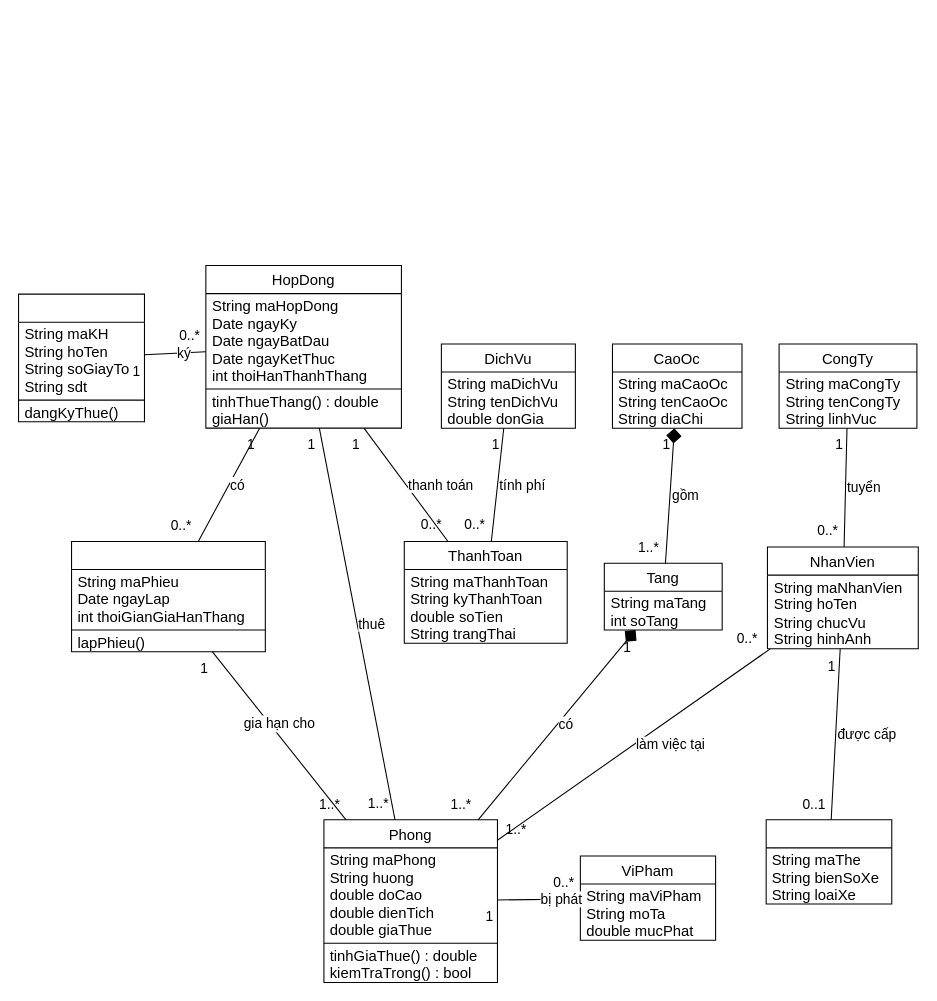
Image size: 937x1001. Some labels were removed from this diagram. The shapes that lost their labels are listed below. From the top down, each one's box as (x1, y1, x2, y2) in pixels, then its label:
(17, 293, 144, 422): KhachHang
(70, 540, 265, 652): PhieuGiaHan
(765, 819, 892, 904): TheGuiXe
